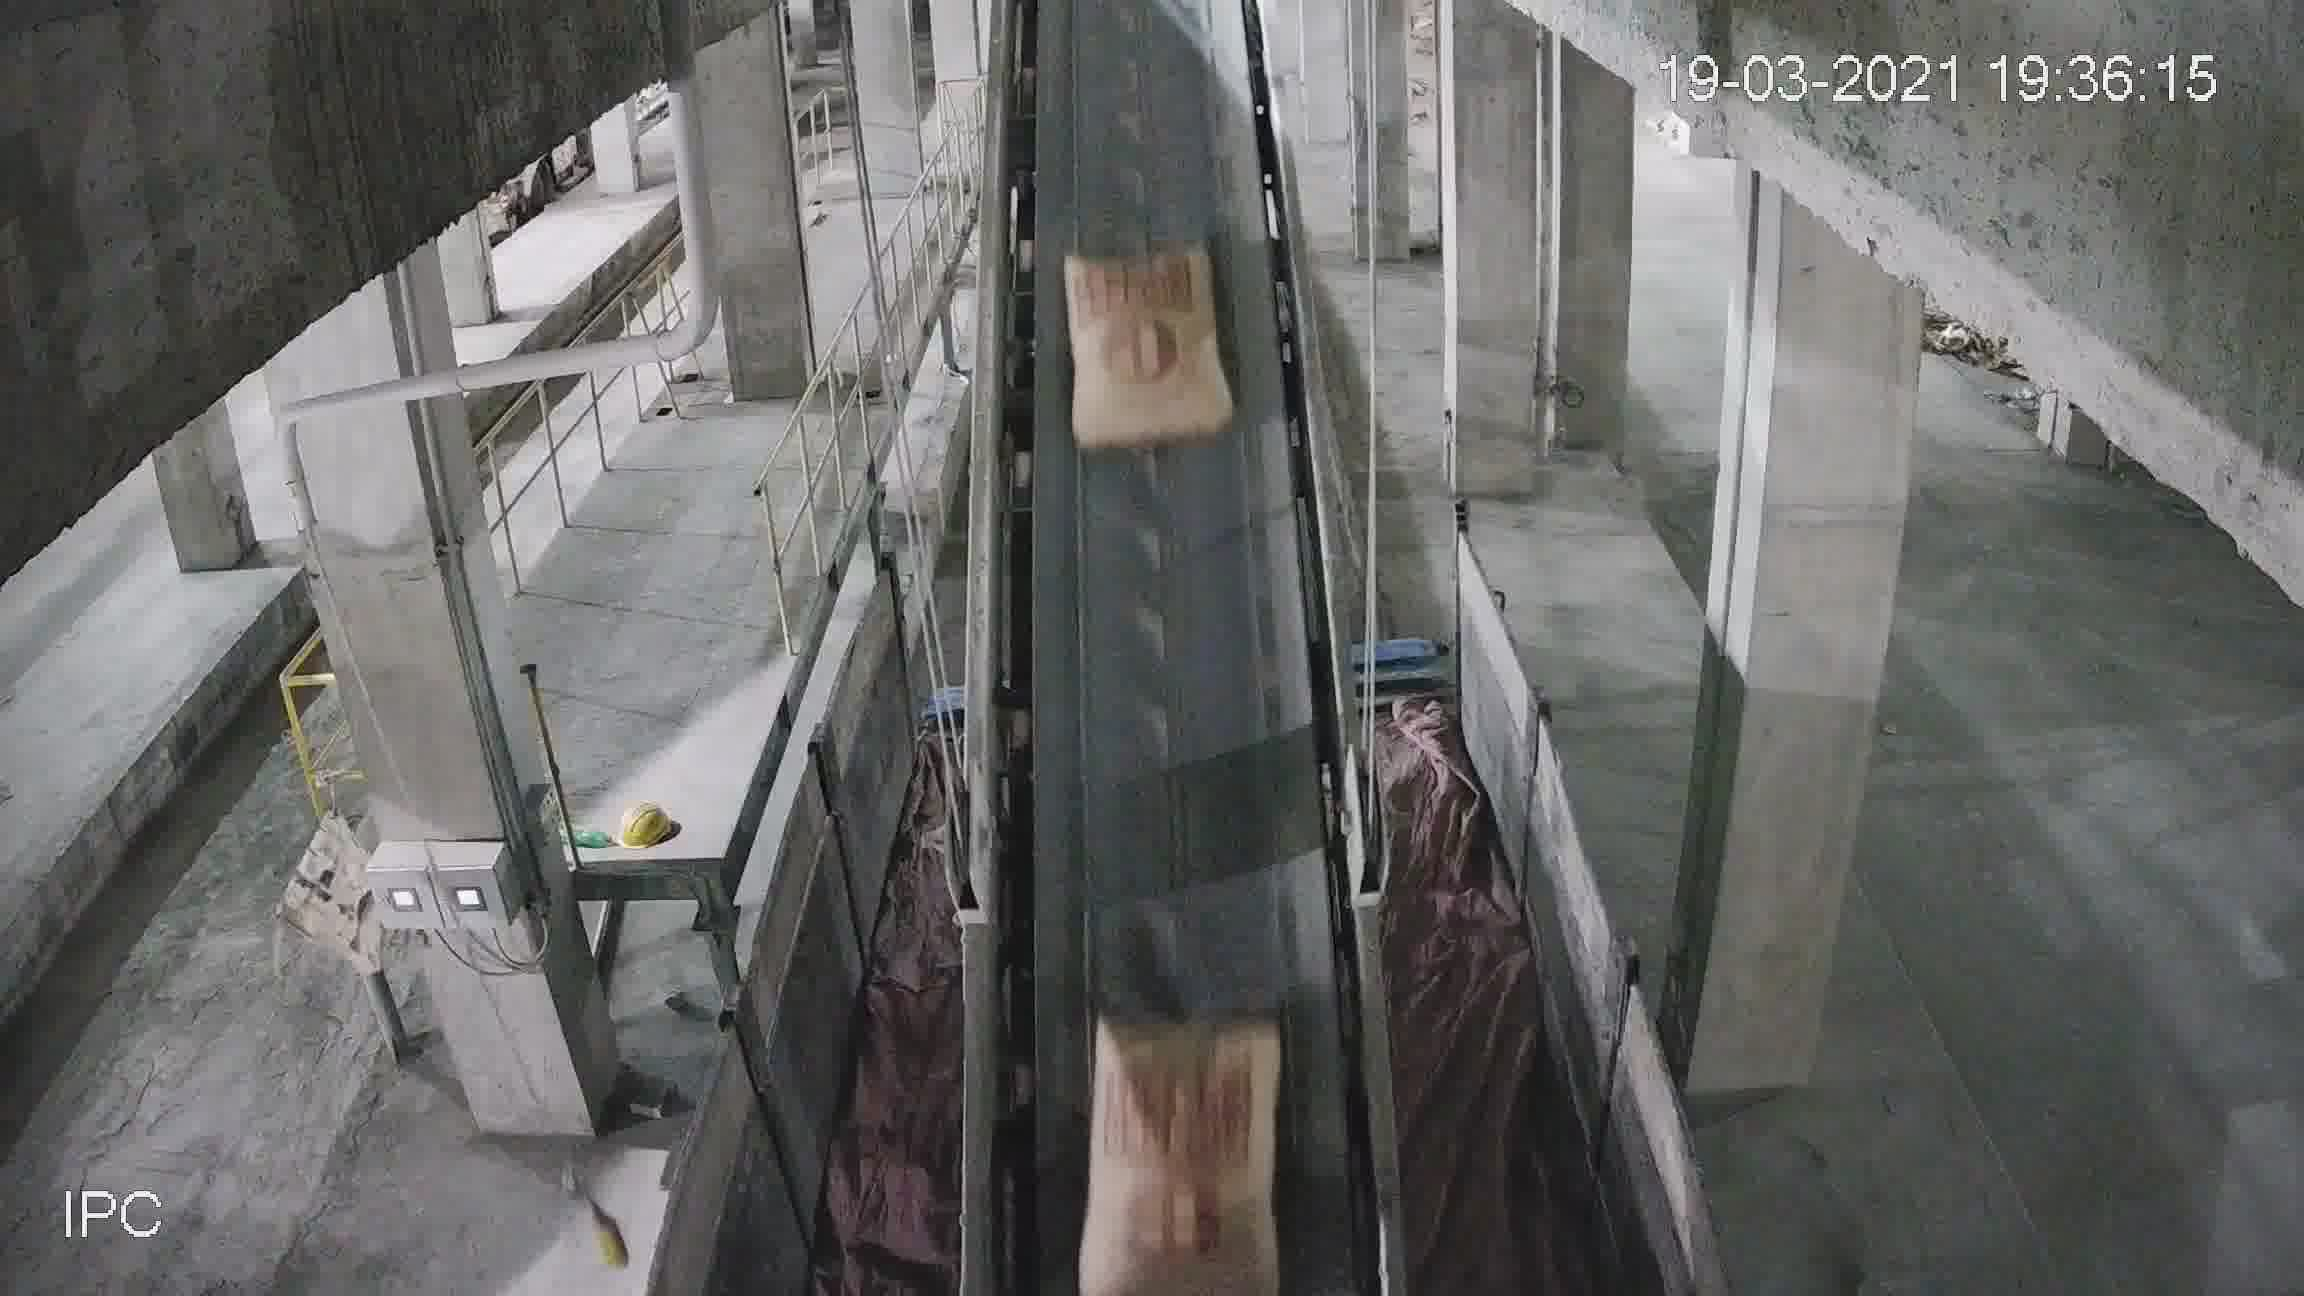bag: (1086, 1021, 1282, 1255), (1067, 255, 1226, 449)
belt: (965, 104, 1385, 1294)
